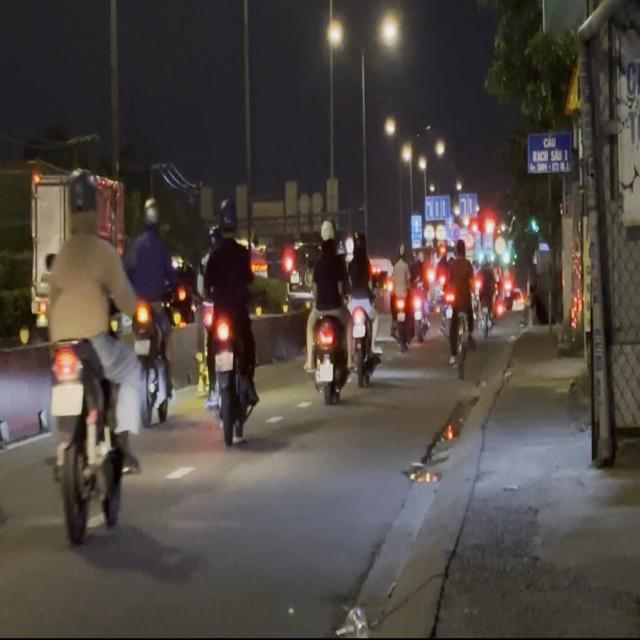helmet: (65, 170, 98, 232), (216, 197, 238, 237)
licenseplate: (40, 169, 140, 544), (198, 196, 260, 443)
nohelmet: (50, 383, 82, 415), (215, 352, 232, 371)
